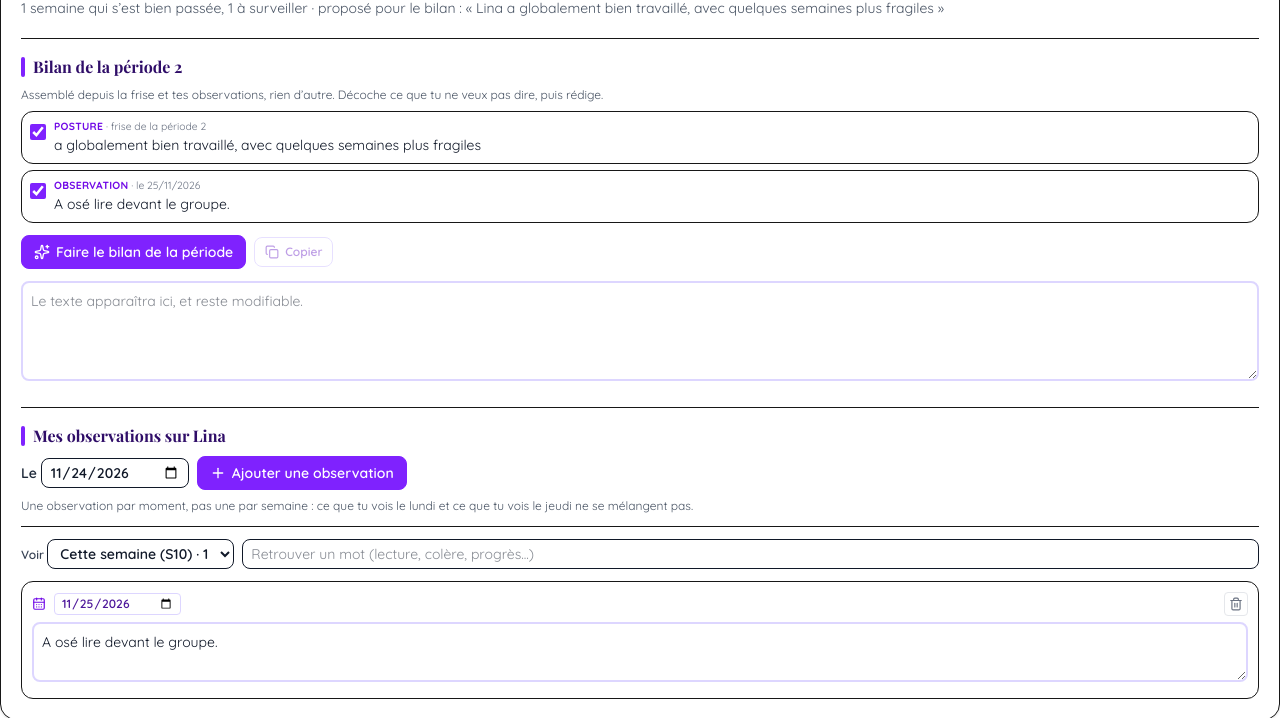
Scenario: SuiviEleves › ajoute une observation à la date choisie
(page scrolled)
Click the button "Ajouter une observation" at (302, 473), box x1=197 y1=456 x2=407 y2=490
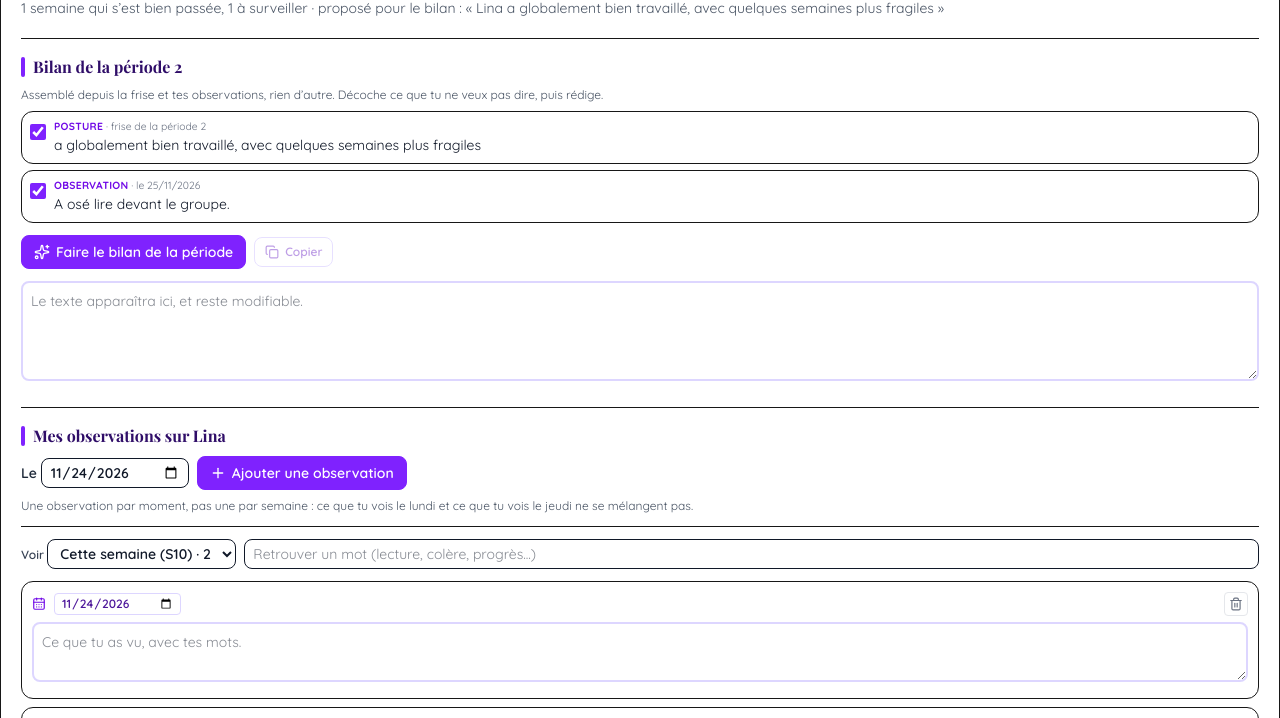
expect the number of text boxes named "observation du" is 2: met
